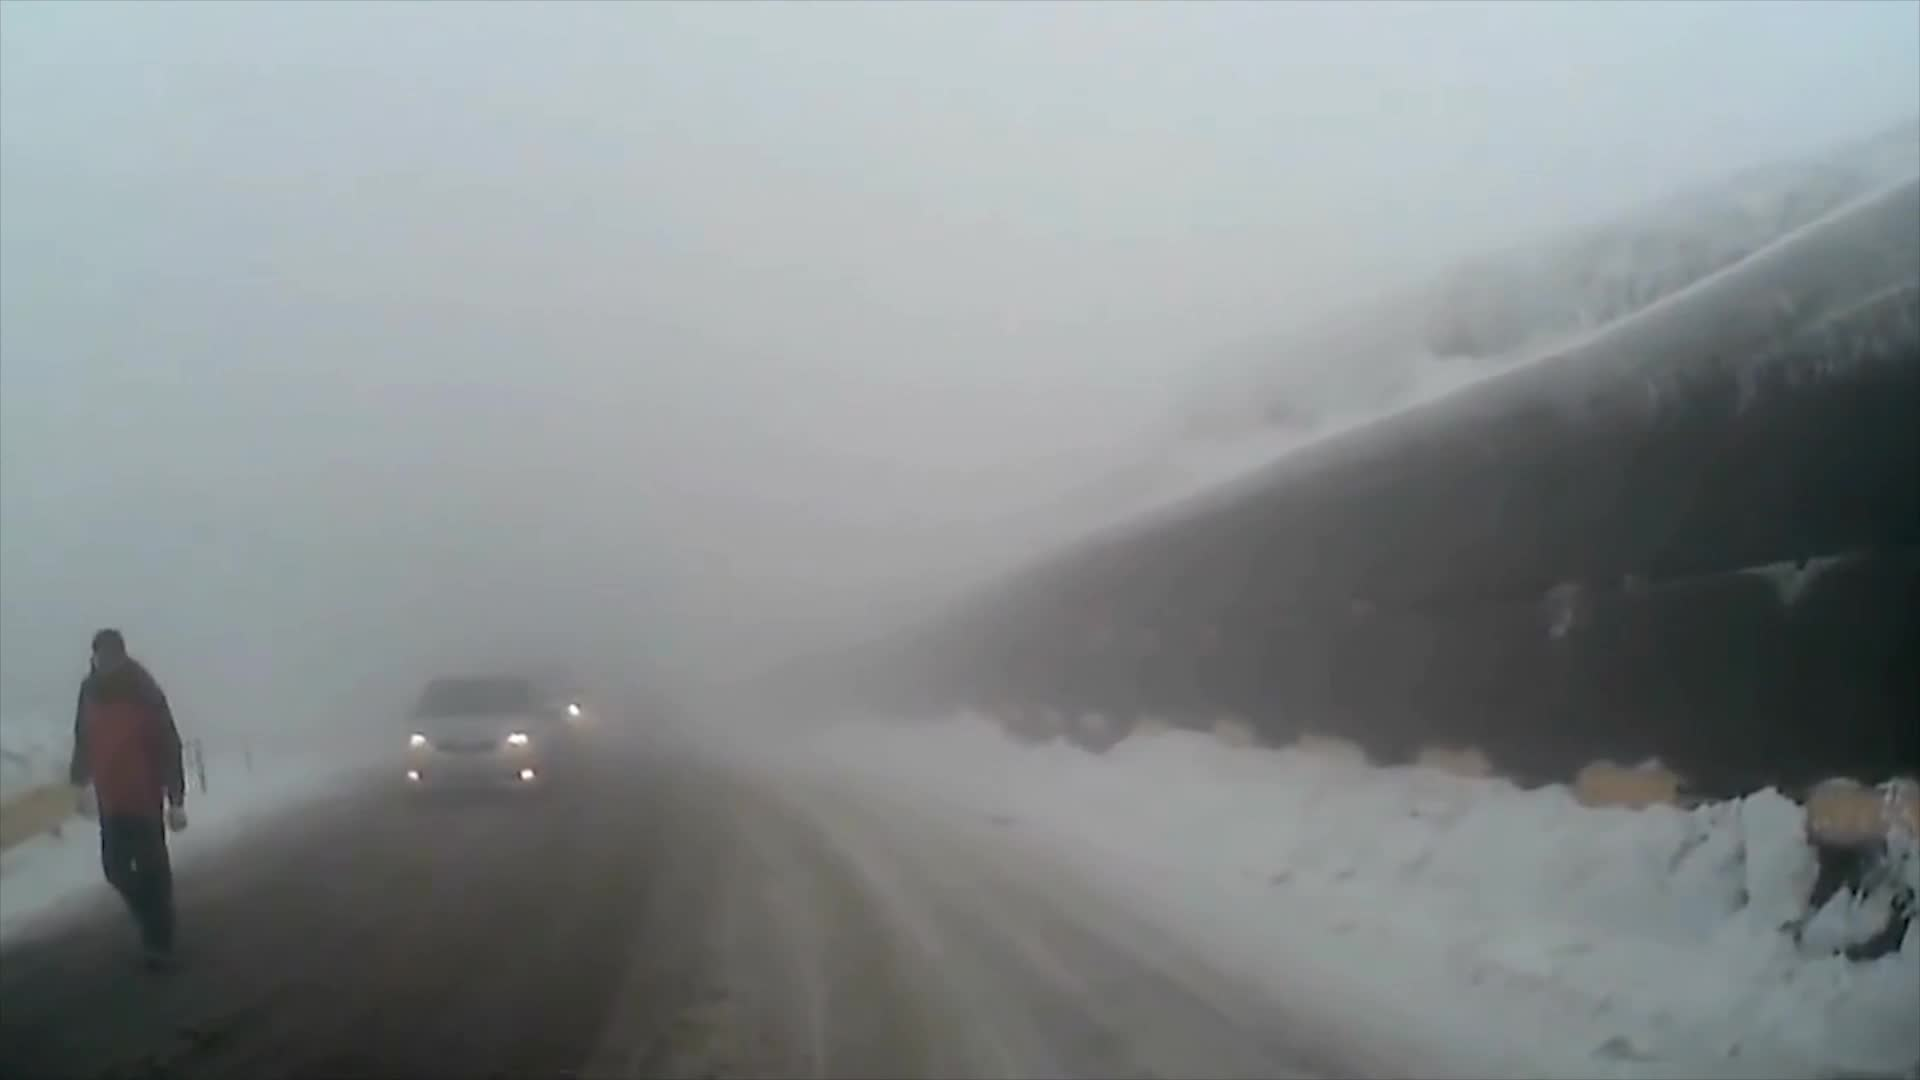pedestrian: (68, 624, 187, 970)
vehicle: (397, 671, 550, 804)
